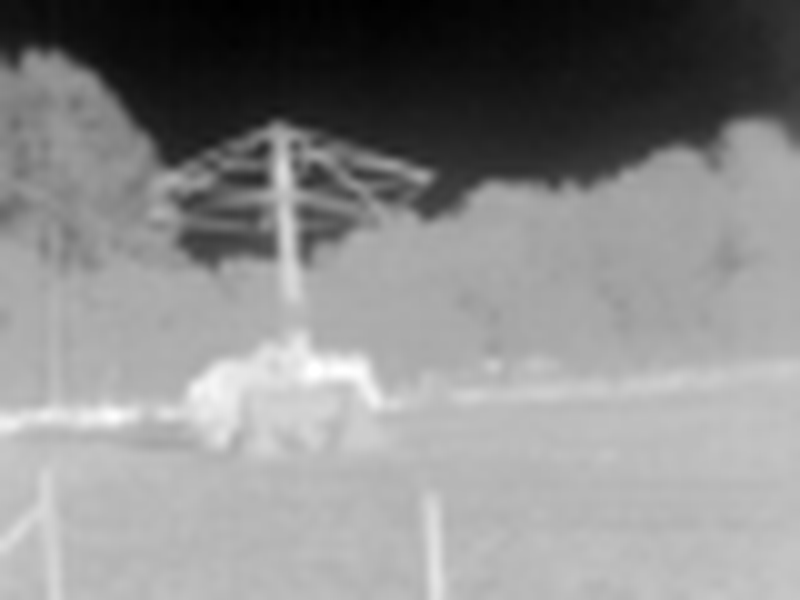elephant: (187, 348, 394, 471)
